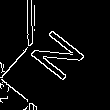N_SE: (21, 23, 89, 87)
